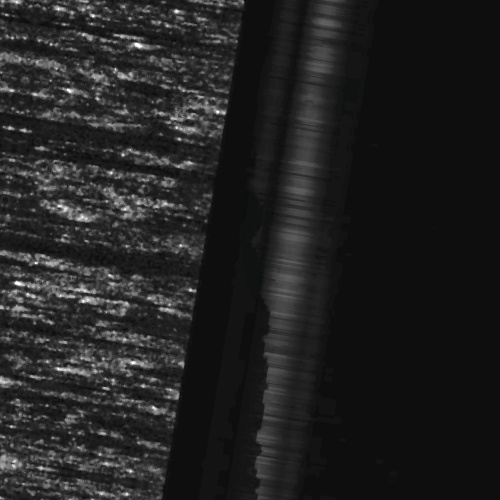object: (0, 6, 92, 19)
shadow: (40, 6, 232, 19), (0, 75, 184, 86), (0, 181, 105, 190), (0, 359, 137, 364), (0, 433, 33, 446)
